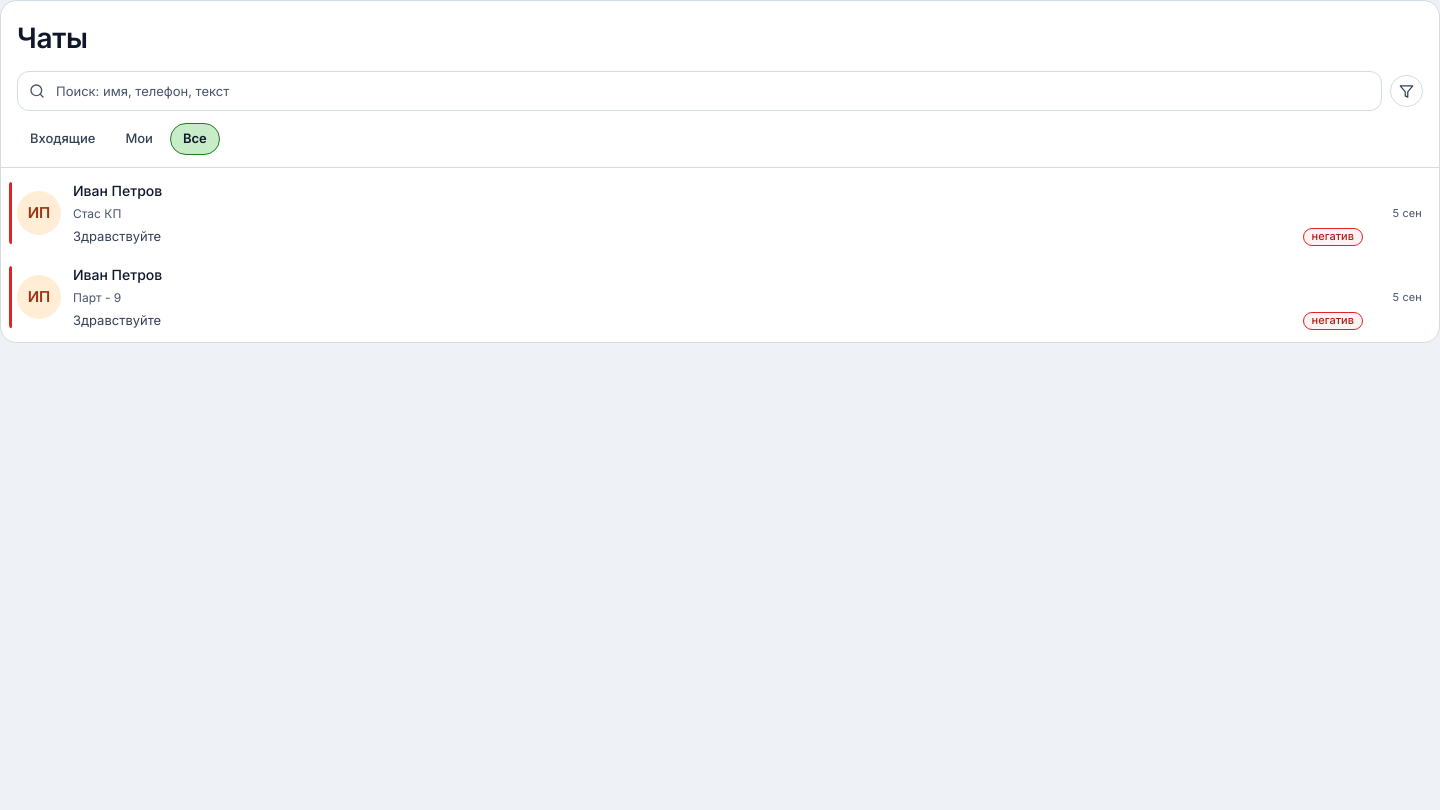
it: Набор полей фильтра по вкладкам › выбор состояния попадает в фильтры и называет себя чипом
What coordinates should you click on to do the following:
click the button named "Фильтры"
I would click on:
 (1406, 91)
Its box is x1=1390 y1=75 x2=1423 y2=107.
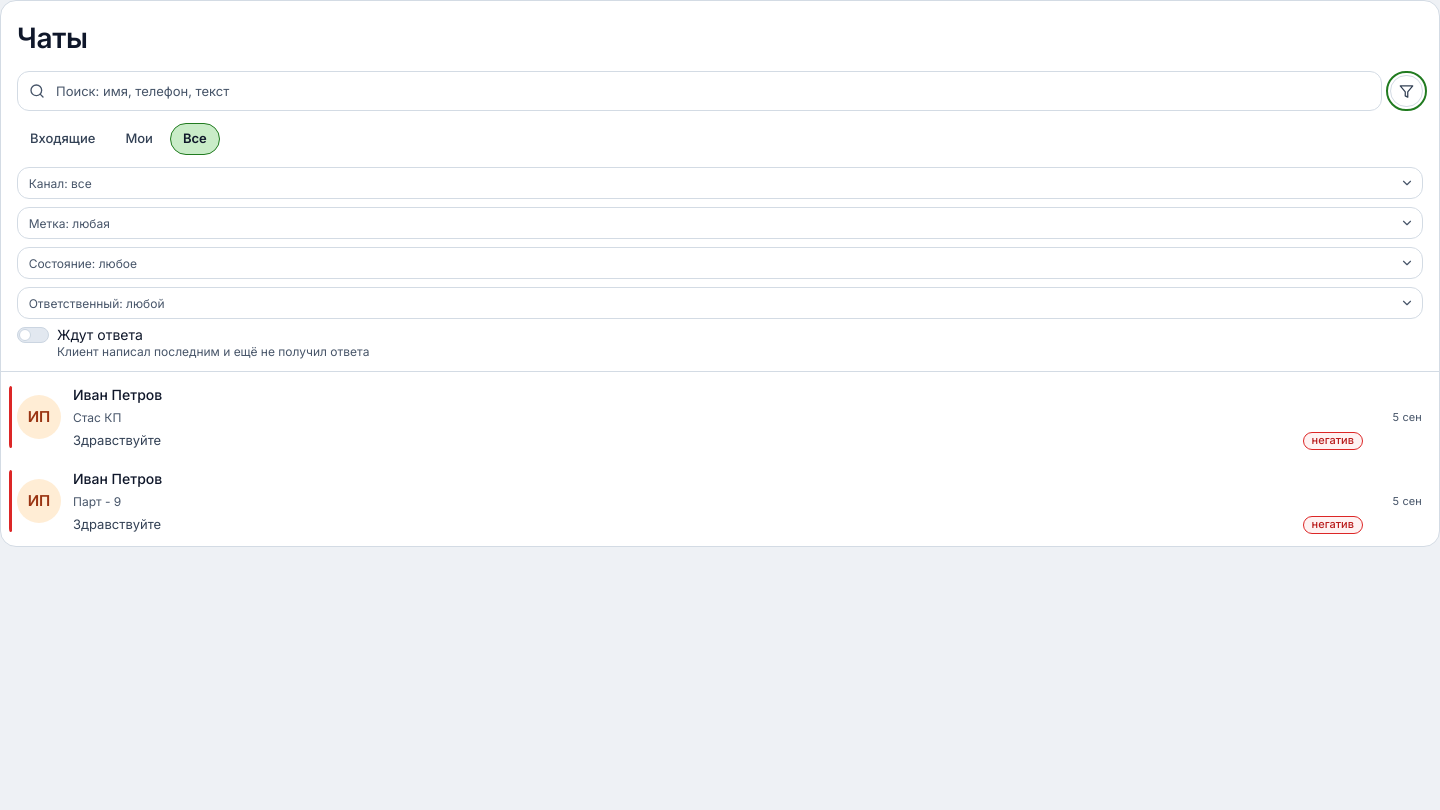
What coordinates should you click on to do the following:
click the field named "Фильтр по состоянию"
I would click on:
 (720, 263)
Its box is x1=17 y1=247 x2=1423 y2=279.
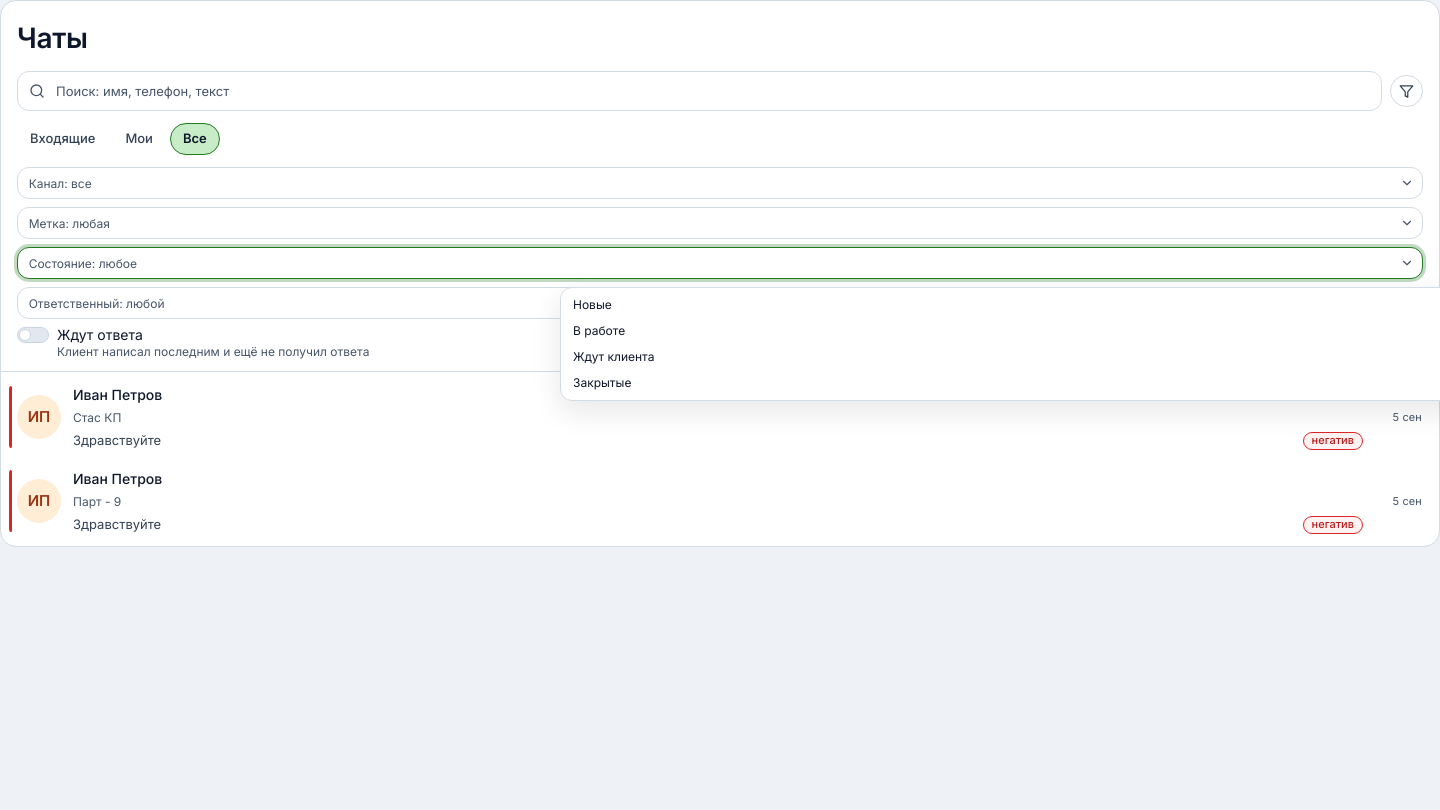
What coordinates should you click on to do the following:
click the option "Закрытые"
I would click on:
 (602, 382)
Its box is x1=573 y1=375 x2=631 y2=390.
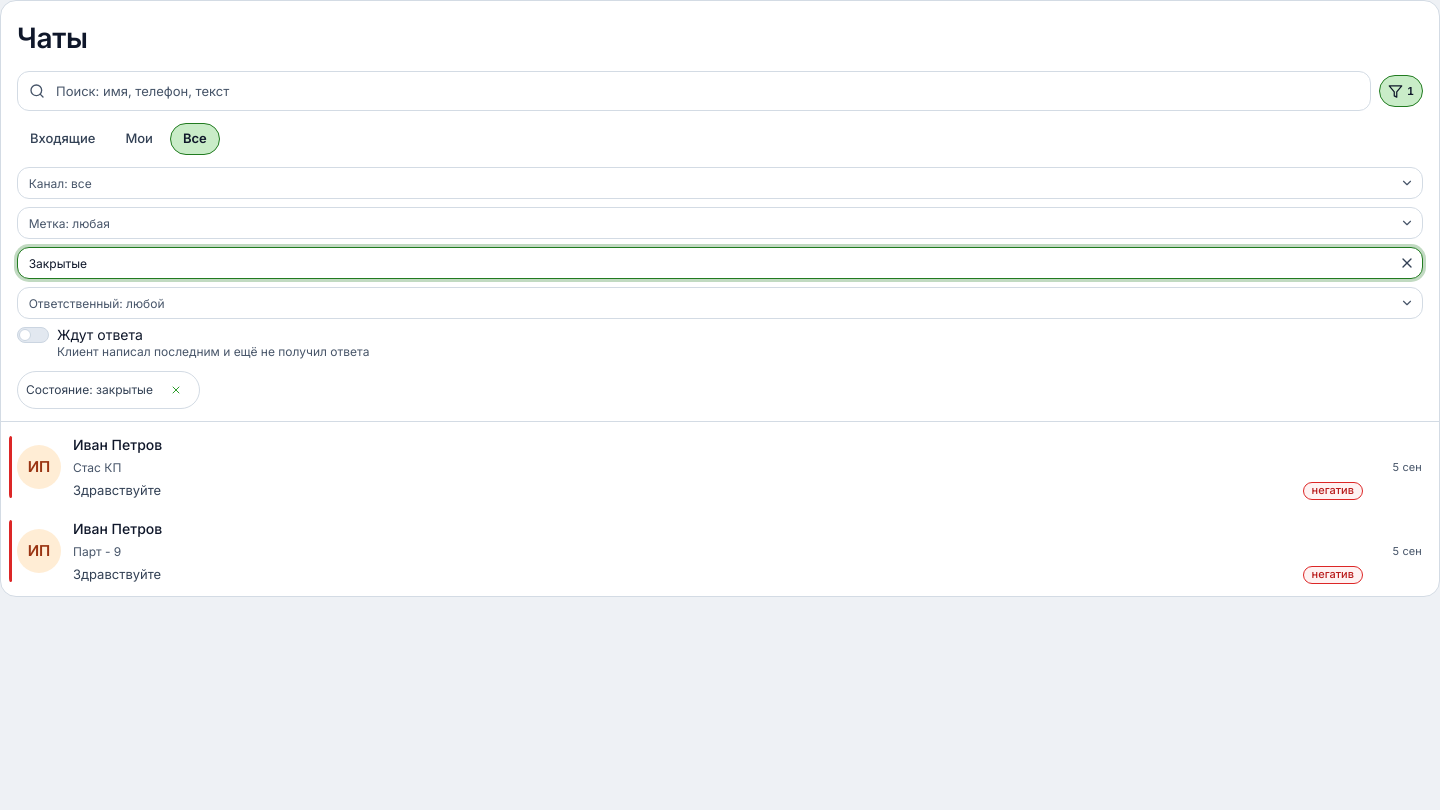
Expected: the text "Состояние: закрытые" is shown, x1=26 y1=381 x2=153 y2=399
